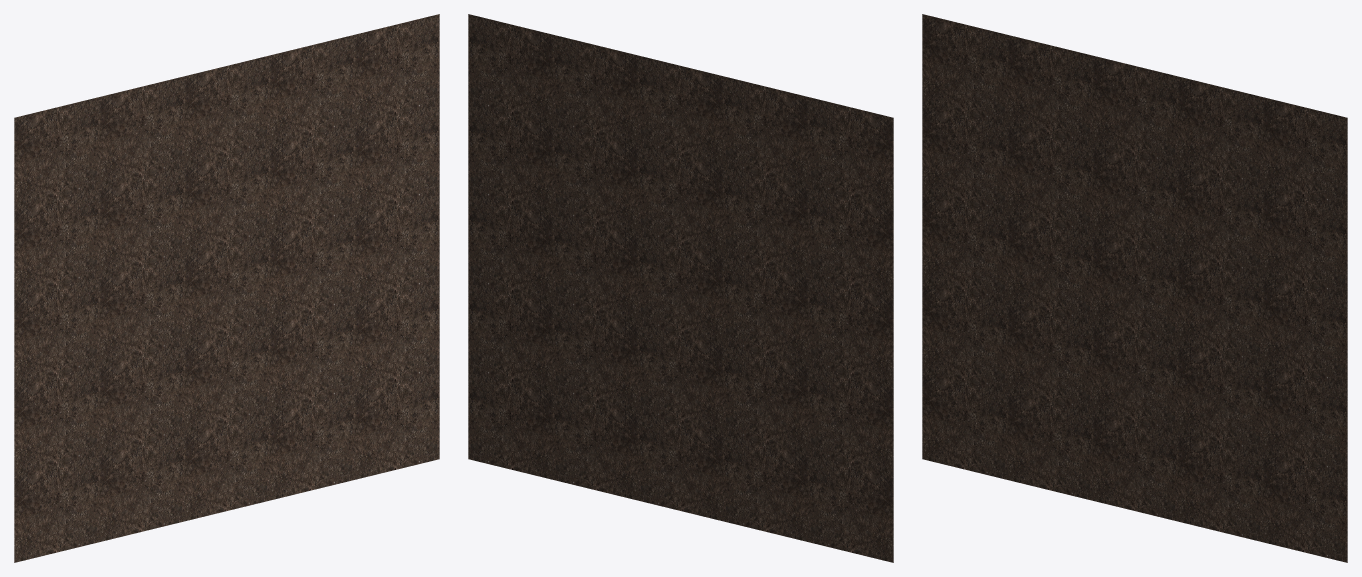
Rendered from ground.obj.
3 renders of one model, left to right at view 1: azimuth 30°, elevation 25°; view 2: azimuth 150°, elevation 25°; view 3: azimuth 330°, elevation 25°, orthographic.
Size of the model in its own units: 4 by 4 by 0.
Materials: 1 (1 with a texture image).
